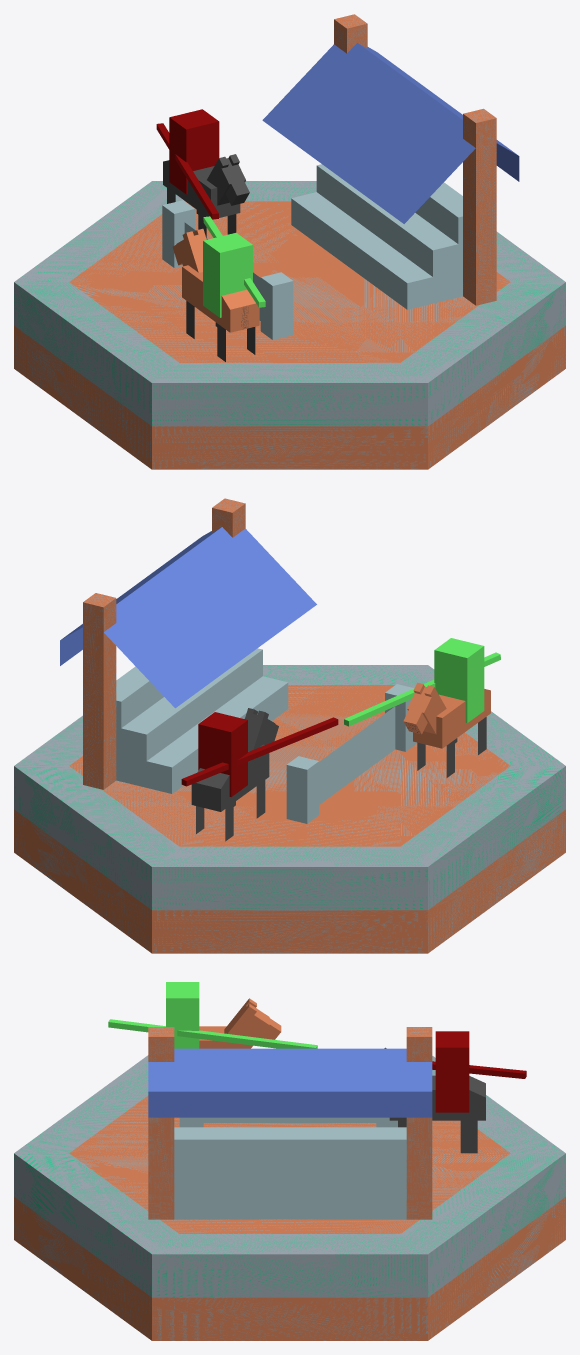
File: Jousting.fbx
The picture shows the model from 3 angles, top to bottom: view 1: azimuth 30°, elevation 25°; view 2: azimuth 150°, elevation 25°; view 3: azimuth 270°, elevation 25°; orthographic projection.
Parts seen in each view (by area): view 1: Model, Group14, OuterShell, Group1, Group5, Group7, Group10, Group13, Group12, Group4, Group9; view 2: Model, Group14, OuterShell, Group1, Group7, Group10, Group13, Group5, Group4, Group9, Group12, Group6; view 3: Model, Group14, OuterShell, Group10, Group7, Group13, Group6, Group1, Group4, Group9, Group5.
Boxes of the visible parts, <box> form: Model: <box>14,181,565,469</box>; Group14: <box>262,14,519,305</box>; OuterShell: <box>291,164,462,309</box>; Group1: <box>162,200,293,339</box>; Group5: <box>182,265,259,361</box>; Group7: <box>203,232,252,317</box>; Group10: <box>169,109,219,194</box>; Group13: <box>163,160,240,237</box>; Group12: <box>207,154,249,205</box>; Group4: <box>172,228,206,272</box>; Group9: <box>156,123,218,219</box>; Model: <box>14,665,565,953</box>; Group14: <box>60,498,316,789</box>; OuterShell: <box>116,648,288,793</box>; Group1: <box>286,684,417,823</box>; Group7: <box>434,638,484,722</box>; Group10: <box>198,712,247,797</box>; Group13: <box>191,744,269,841</box>; Group5: <box>413,689,490,777</box>; Group4: <box>403,682,446,734</box>; Group9: <box>181,717,338,786</box>; Group12: <box>245,708,278,751</box>; Group6: <box>344,652,500,726</box>; Model: <box>14,1055,565,1340</box>; Group14: <box>148,1027,432,1219</box>; OuterShell: <box>174,1127,406,1219</box>; Group10: <box>435,1031,469,1112</box>; Group7: <box>166,982,199,1048</box>; Group13: <box>389,1075,485,1153</box>; Group6: <box>108,1019,317,1048</box>; Group1: <box>179,1117,397,1127</box>; Group4: <box>224,998,281,1048</box>; Group9: <box>432,1061,526,1078</box>; Group5: <box>199,1026,245,1048</box>.
Bounding box in the file's own units: 1 × 0.6215 × 1.15.
